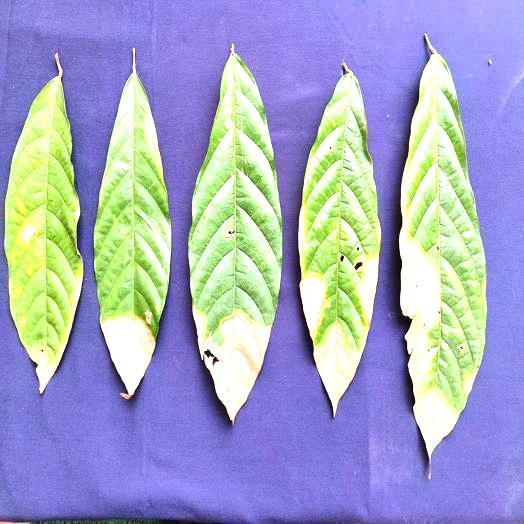Potassium: (400, 35, 486, 462), (188, 46, 281, 421), (299, 63, 380, 415), (94, 49, 170, 398), (4, 54, 82, 393)
